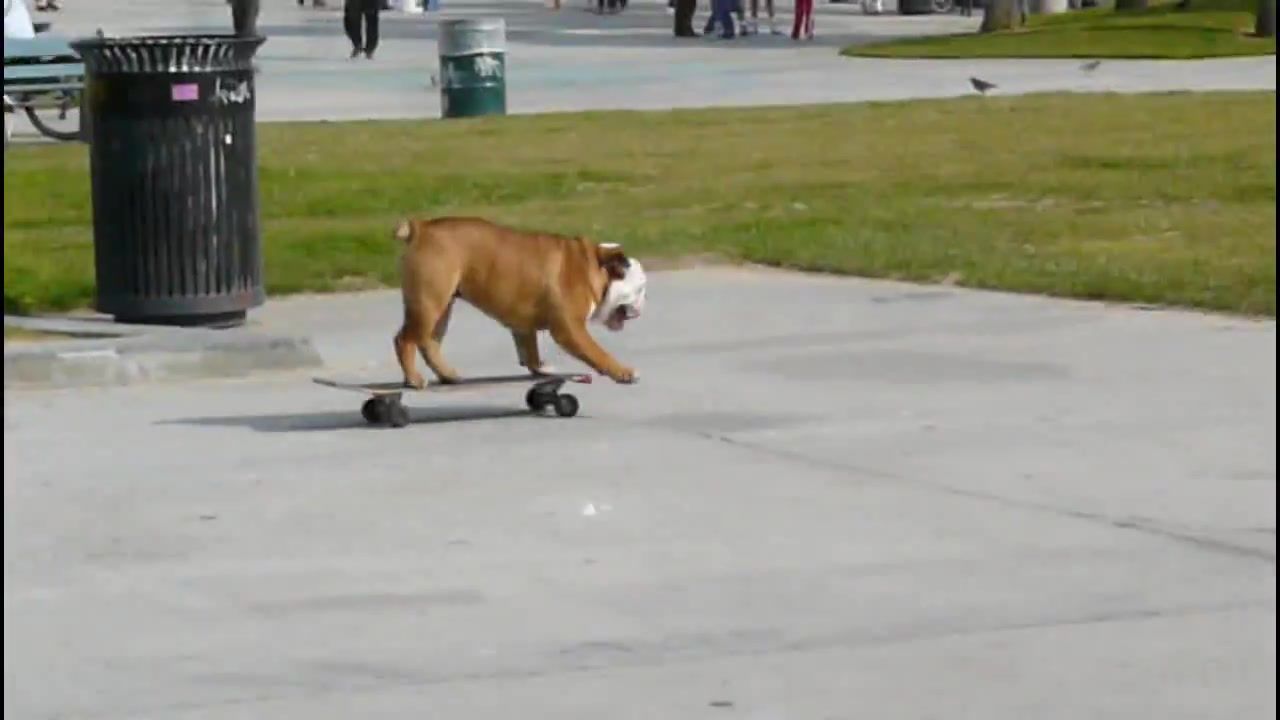dog: (389, 213, 653, 386)
